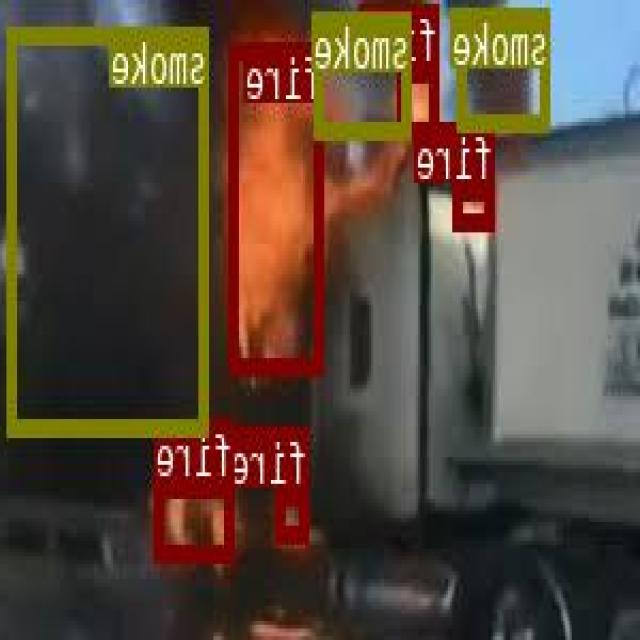fire: (231, 42, 325, 371), (157, 479, 235, 559), (401, 62, 441, 134), (455, 180, 496, 228), (278, 487, 310, 539)
smoke: (10, 24, 210, 433), (317, 10, 412, 136), (460, 7, 552, 129)
